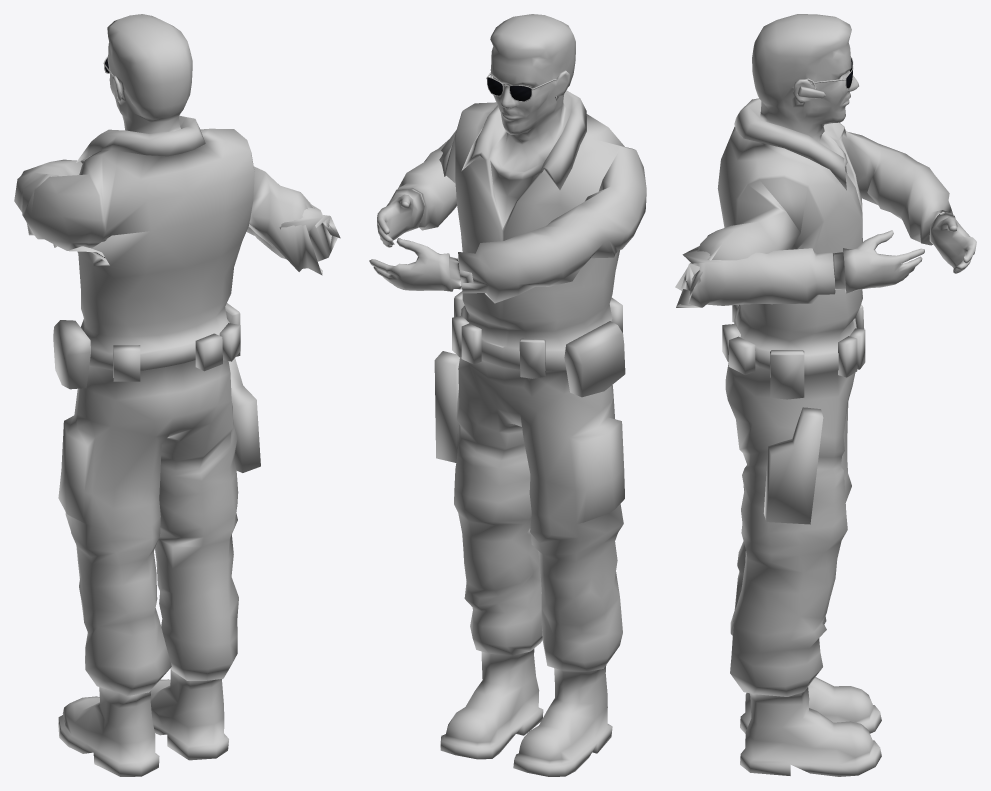
Rendered from leet.FBX.
The picture shows the model from 3 angles, left to right: view 1: azimuth 30°, elevation 25°; view 2: azimuth 150°, elevation 25°; view 3: azimuth 270°, elevation 25°; orthographic projection.
Parts seen in each view (by area): view 1: smdimport; view 2: smdimport; view 3: smdimport.
Boxes of the visible parts, bbox=[...] form: smdimport: bbox=[14, 14, 340, 776]; smdimport: bbox=[369, 14, 646, 776]; smdimport: bbox=[675, 14, 976, 776].
Bounding box in the file's own units: 18.62 × 19.52 × 51.87.
